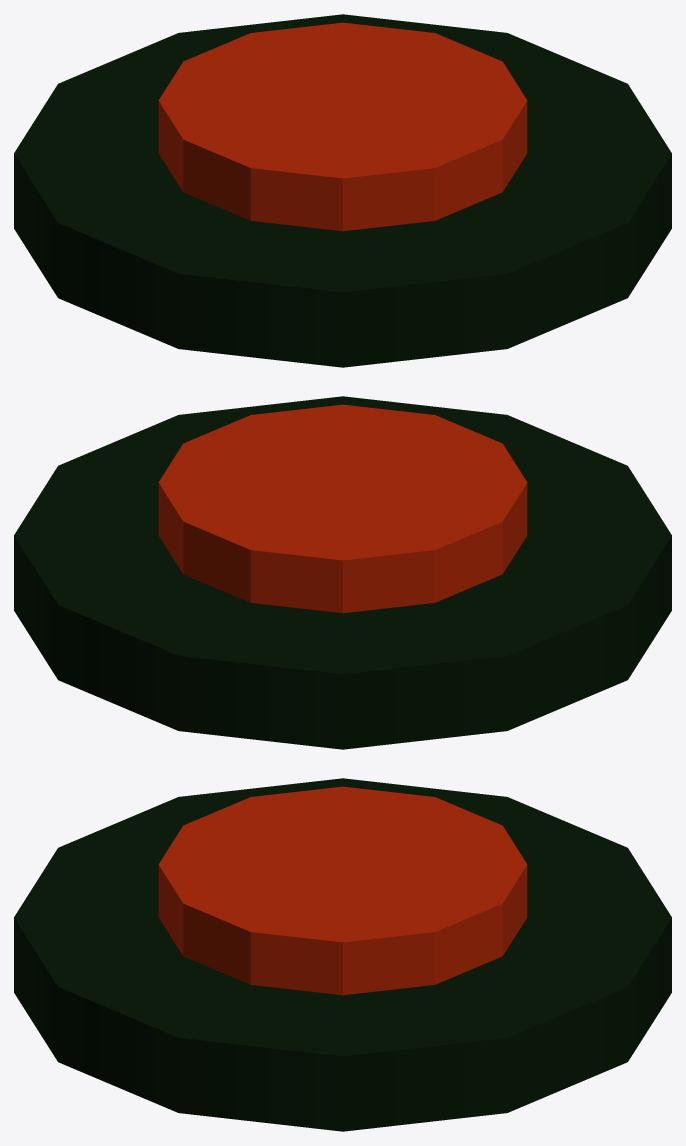
Rendered from mine.fbx.
3 renders of one model, top to bottom at view 1: azimuth 30°, elevation 25°; view 2: azimuth 150°, elevation 25°; view 3: azimuth 270°, elevation 25°, orthographic.
Visible parts, largest first — view 1: mine; view 2: mine; view 3: mine.
Part boxes in pixels (x1,y1,x2,y2): mine: (14, 14, 671, 367); mine: (14, 396, 671, 749); mine: (14, 778, 671, 1131).
Size of the model in its own units: 0.4133 by 0.4133 by 0.0888.
